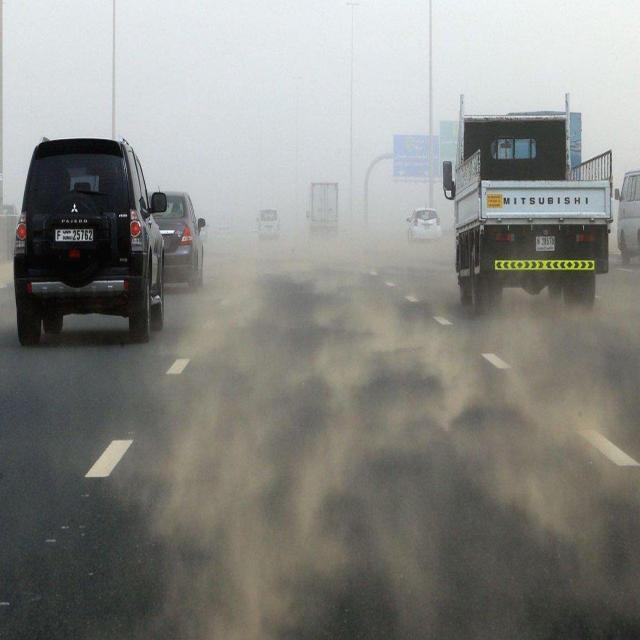Bus: (614, 166, 640, 266)
Car: (12, 133, 170, 351), (145, 188, 207, 296), (405, 208, 443, 250)
Truck: (442, 91, 614, 307), (304, 178, 341, 242)
Van: (254, 206, 282, 243)
